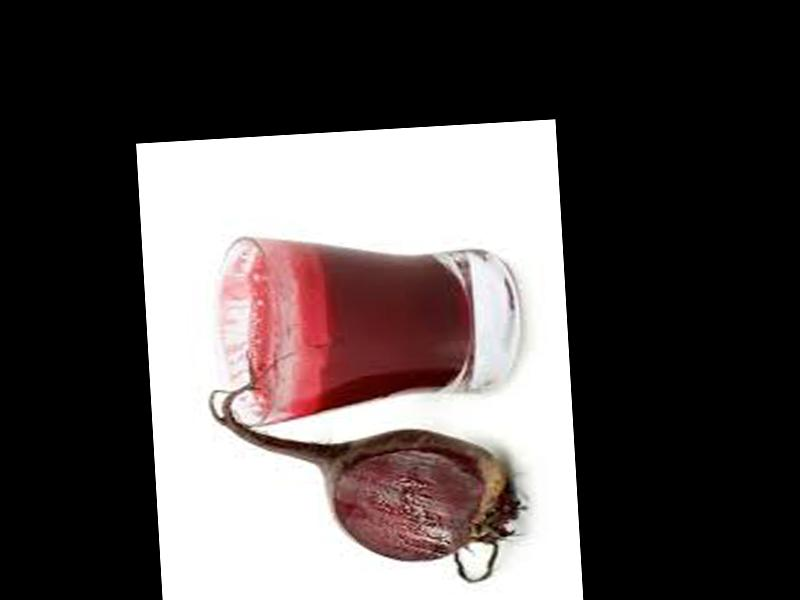Beet: (206, 344, 527, 596)
